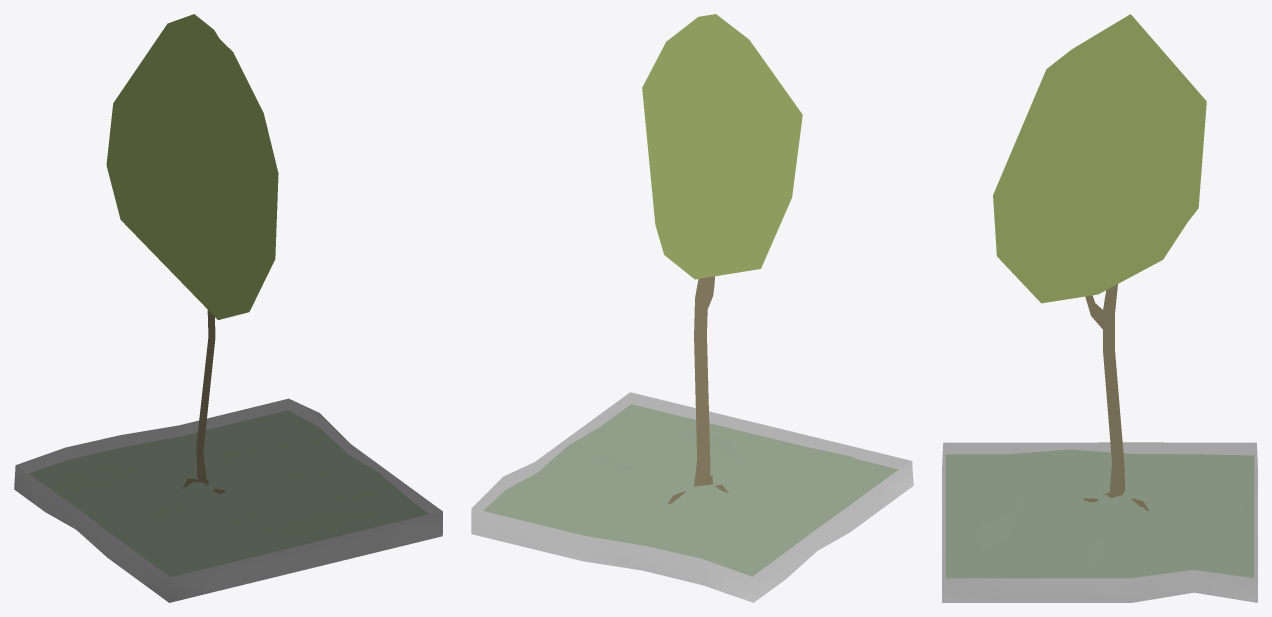
The model's file is tree-1.glb.
The picture shows the model from 3 angles, left to right: view 1: azimuth 30°, elevation 25°; view 2: azimuth 150°, elevation 25°; view 3: azimuth 270°, elevation 25°; orthographic projection. The views are drawn at different scales.
Parts seen in each view (by area): view 1: Leaves_15.002; view 2: Leaves_15.002; view 3: Leaves_15.002.
Part boxes in pixels (x1,y1,x2,y2): Leaves_15.002: (14,14,442,602); Leaves_15.002: (471,14,913,602); Leaves_15.002: (942,14,1257,602).
Bounding box in the file's own units: 1.12 × 1.93 × 1.1.
